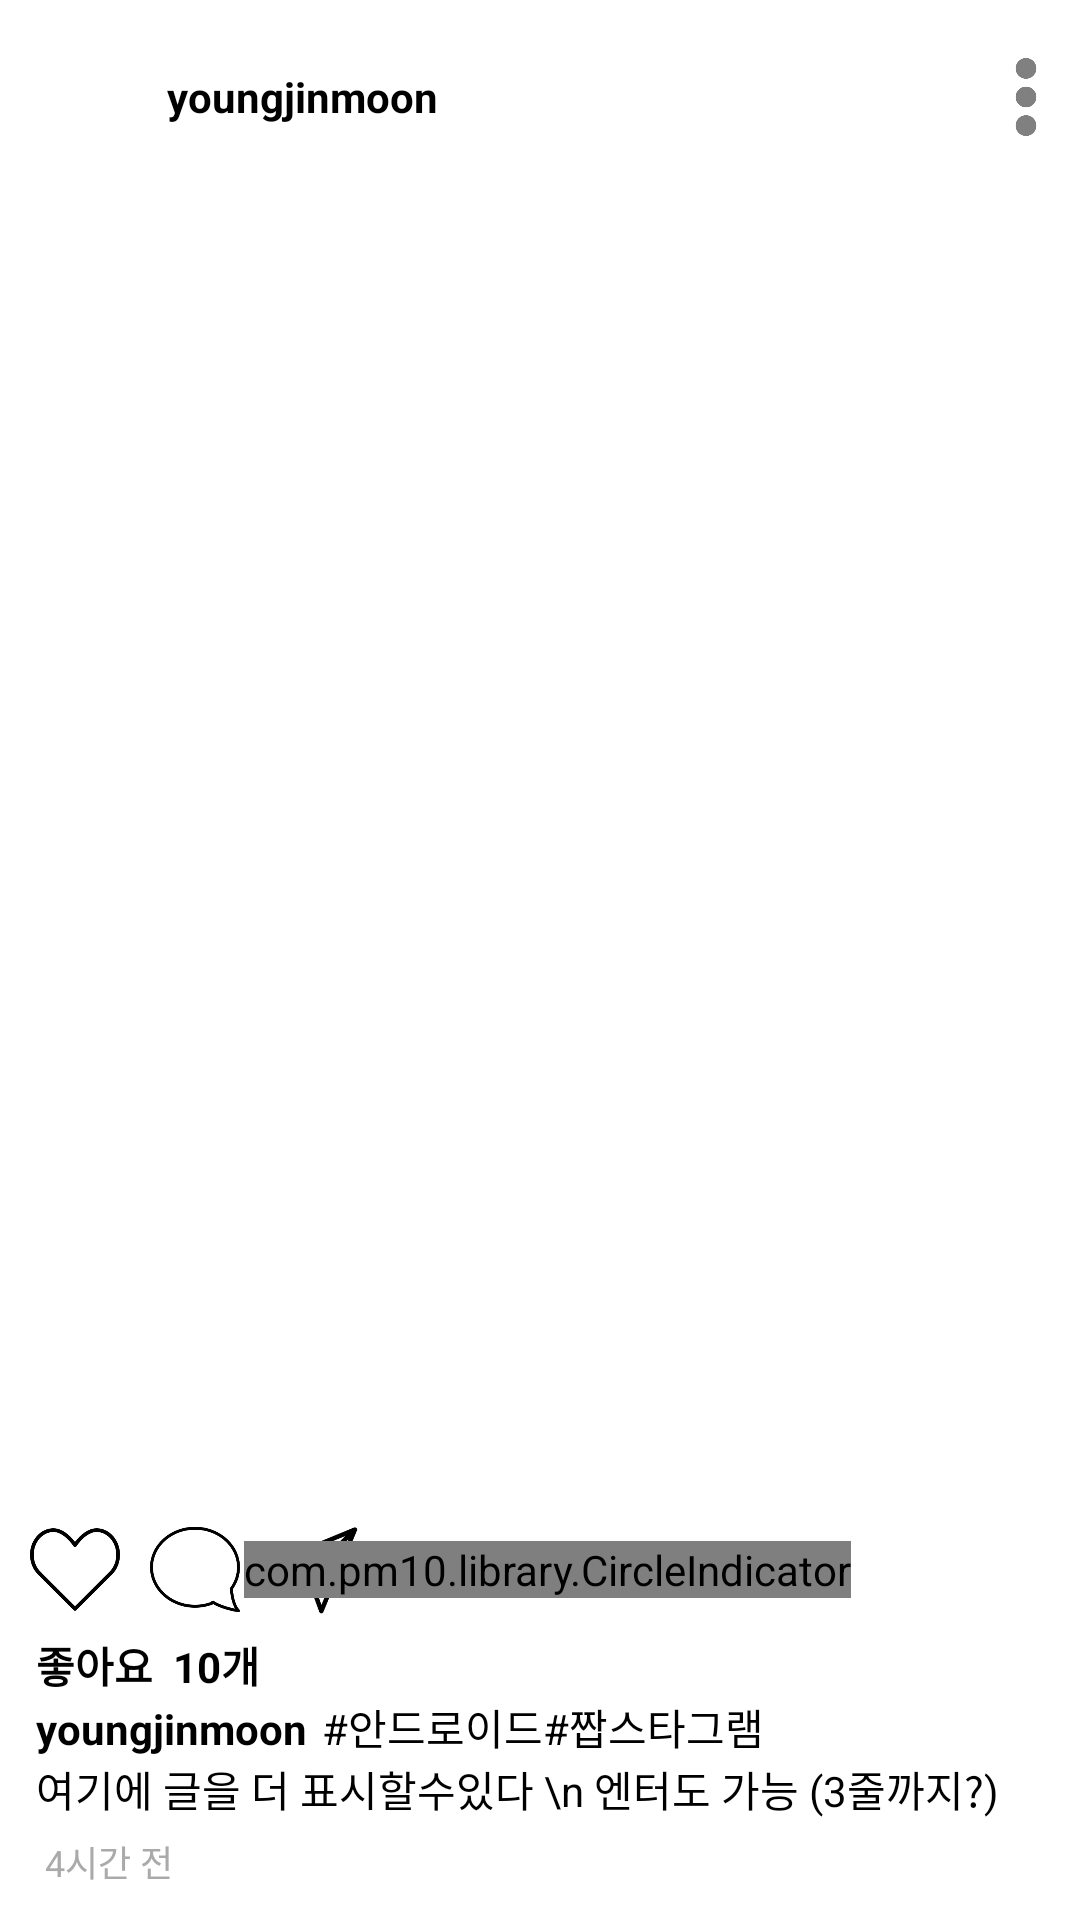

Named icons in this screenshot (1080 x 1920) and their centers, point (x, y):
comment: point (195, 1569)
heart: point (75, 1569)
more: point (1026, 97)
